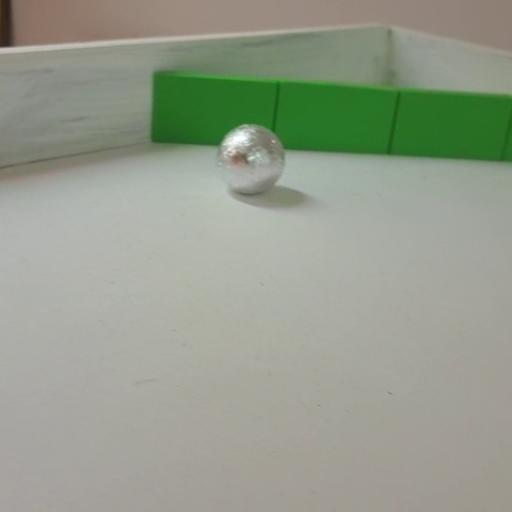alive: (217, 124, 285, 196)
